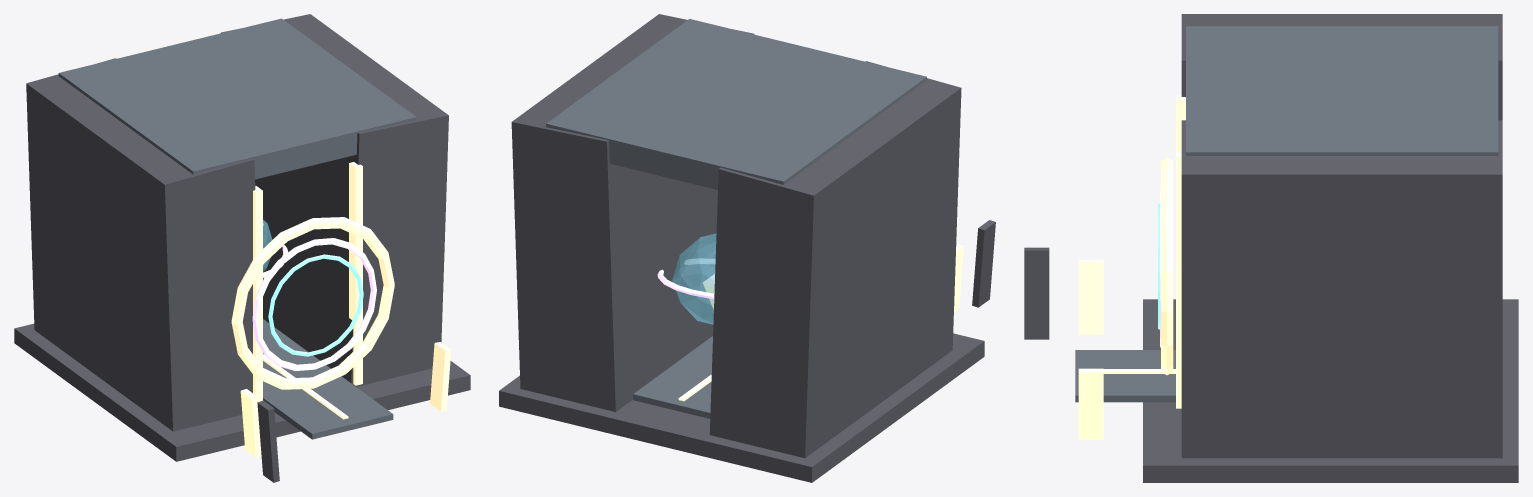
The model's file is vault-reveal-gallery-lod2.be5affc43607.glb.
3 views of the same model, side by side, from view 1: azimuth 30°, elevation 25°; view 2: azimuth 150°, elevation 25°; view 3: azimuth 270°, elevation 25° (orthographic). The views are drawn at different scales.
Parts seen in each view (by area): view 1: vault_monolith_-1, vault_monolith_1, vault_crown, vault_foundation, gallery_spine, vault_entry_outer, vault_entry_mid, vault_gold_rib_1, vault_entry_inner, vault_gold_rib_-1, approach_fin_2, approach_fin_1 (+2 smaller); view 2: vault_monolith_-1, vault_monolith_1, vault_crown, vault_foundation, gallery_spine, reveal_chamber, approach_fin_2, reveal_suspension_ring; view 3: vault_monolith_1, vault_crown, vault_foundation, vault_monolith_-1, gallery_spine, vault_entry_outer, approach_fin_2, approach_fin_0, approach_fin_1, vault_gold_rib_1.
Part boxes in pixels (x1,y1,x2,y2): vault_monolith_-1: (26, 58, 255, 431); vault_monolith_1: (221, 14, 448, 386); vault_crown: (58, 18, 416, 179); vault_foundation: (14, 323, 470, 461); gallery_spine: (263, 319, 393, 439); vault_entry_outer: (231, 217, 394, 389); vault_entry_mid: (252, 238, 376, 370); vault_gold_rib_1: (349, 162, 362, 385); vault_entry_inner: (268, 254, 363, 356); vault_gold_rib_-1: (253, 186, 262, 401); approach_fin_2: (257, 400, 279, 482); approach_fin_1: (430, 342, 451, 411); vault_monolith_-1: (709, 61, 961, 458); vault_monolith_1: (511, 14, 754, 411); vault_crown: (546, 19, 926, 189); vault_foundation: (499, 333, 984, 482); gallery_spine: (633, 336, 712, 418); reveal_chamber: (672, 233, 716, 324); approach_fin_2: (972, 220, 995, 307); reveal_suspension_ring: (657, 258, 715, 298); vault_monolith_1: (1181, 120, 1502, 458); vault_crown: (1186, 26, 1498, 155); vault_foundation: (1143, 299, 1518, 482); vault_monolith_-1: (1181, 14, 1502, 120); gallery_spine: (1075, 350, 1175, 402); vault_entry_outer: (1161, 158, 1173, 375); approach_fin_2: (1024, 247, 1049, 339); approach_fin_0: (1078, 259, 1103, 334); approach_fin_1: (1078, 368, 1103, 439); vault_gold_rib_1: (1176, 152, 1181, 408).
Bounding box in the file's own units: 8.7 × 7.57 × 10.93.
